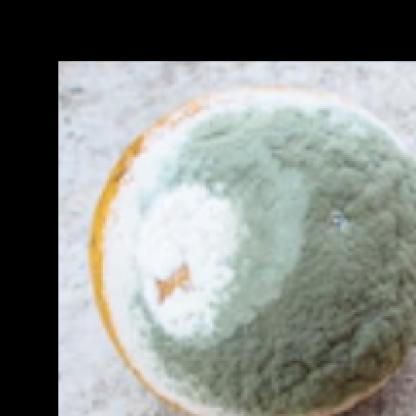rotten: (96, 80, 416, 416)
